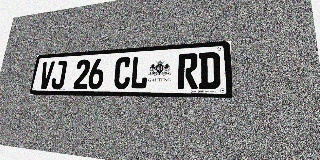2: (73, 59, 91, 89)
6: (87, 58, 106, 89)
C: (113, 57, 132, 89)
D: (199, 52, 220, 89)
J: (50, 60, 67, 89)
L: (130, 56, 149, 89)
R: (177, 53, 198, 89)
V: (38, 61, 55, 89)
